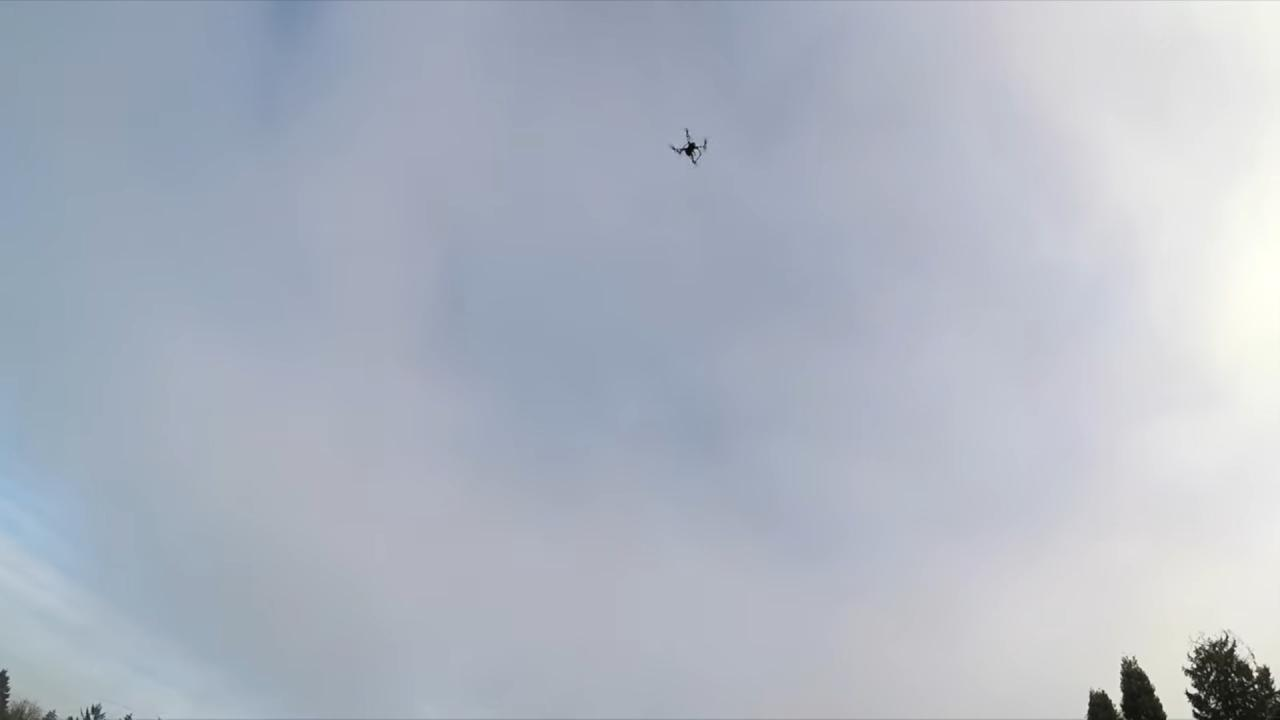Drone: (661, 121, 714, 176)
